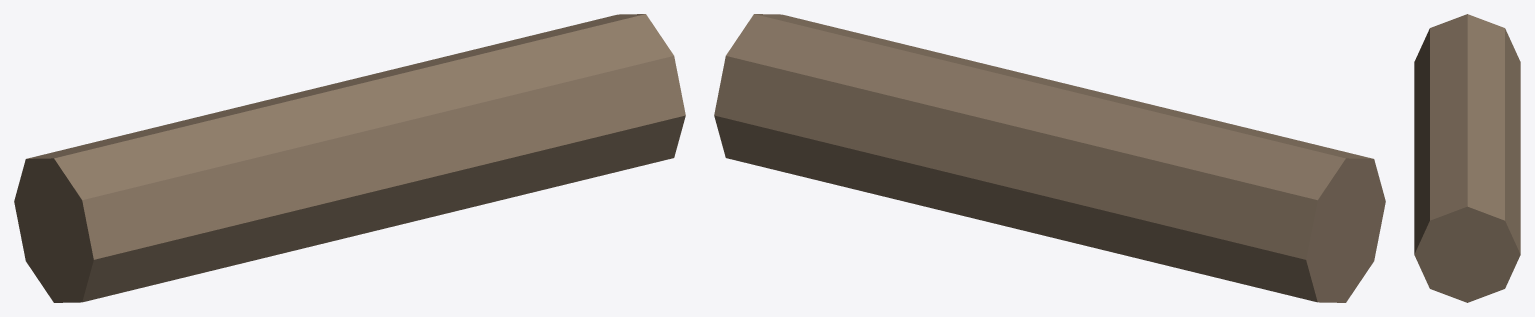
Rendered from ENV_F_Log.fbx.
3 views of the same model, side by side, from view 1: azimuth 30°, elevation 25°; view 2: azimuth 150°, elevation 25°; view 3: azimuth 270°, elevation 25° (orthographic). The views are drawn at different scales.
Parts seen in each view (by area): view 1: ENV_F_Log; view 2: ENV_F_Log; view 3: ENV_F_Log.
Part boxes in pixels (x1,y1,x2,y2): ENV_F_Log: (14, 14, 685, 302); ENV_F_Log: (714, 14, 1385, 302); ENV_F_Log: (1414, 14, 1520, 302).
Size of the model in its own units: 300 by 70 by 70.
